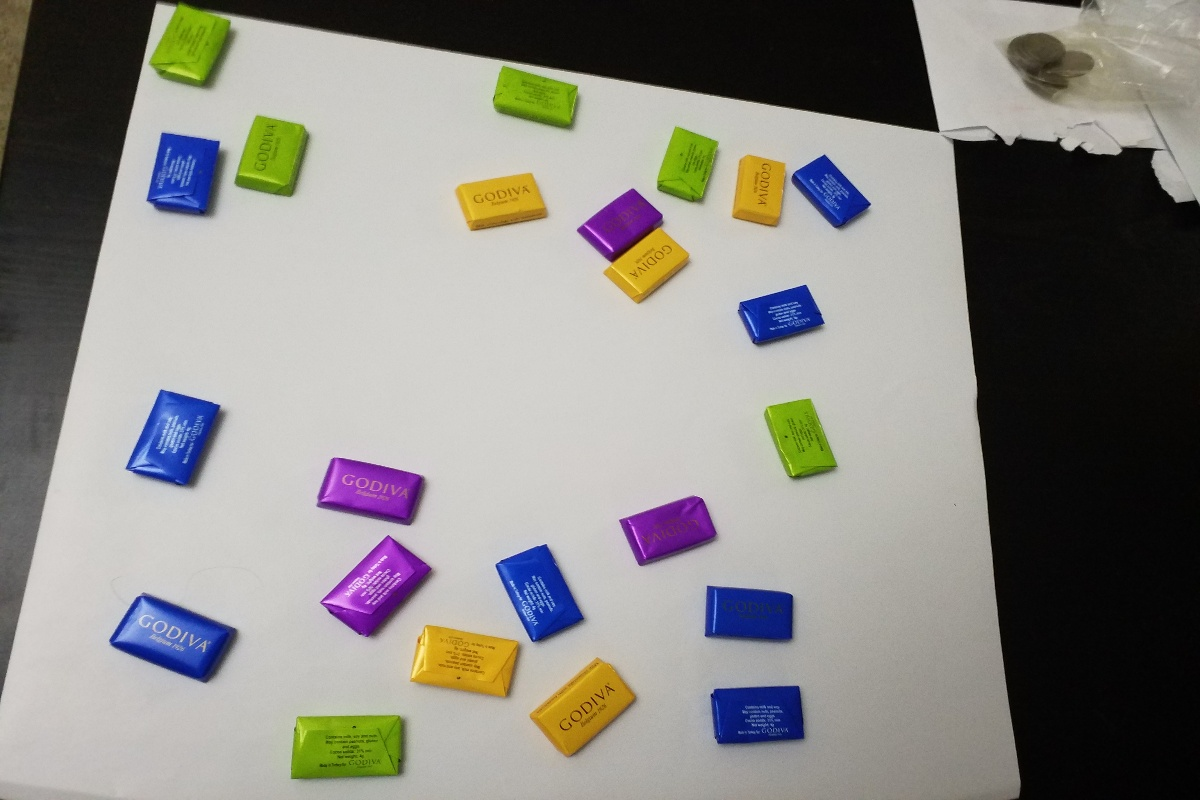chocolate_blue: (91, 586, 244, 691), (483, 534, 595, 649), (119, 379, 224, 501), (693, 676, 823, 758), (139, 126, 227, 225), (786, 145, 879, 234), (699, 577, 803, 655)
chocolate_green: (753, 392, 854, 503), (278, 704, 418, 780), (481, 63, 594, 140), (228, 106, 314, 205), (646, 115, 728, 212), (148, 5, 236, 88)
chocolate_purple: (303, 531, 446, 647), (606, 482, 723, 576), (307, 443, 431, 526), (568, 177, 673, 265)
chocolate_yellow: (524, 653, 642, 760), (407, 615, 524, 705), (592, 222, 699, 303), (450, 168, 555, 240), (724, 148, 794, 232)
